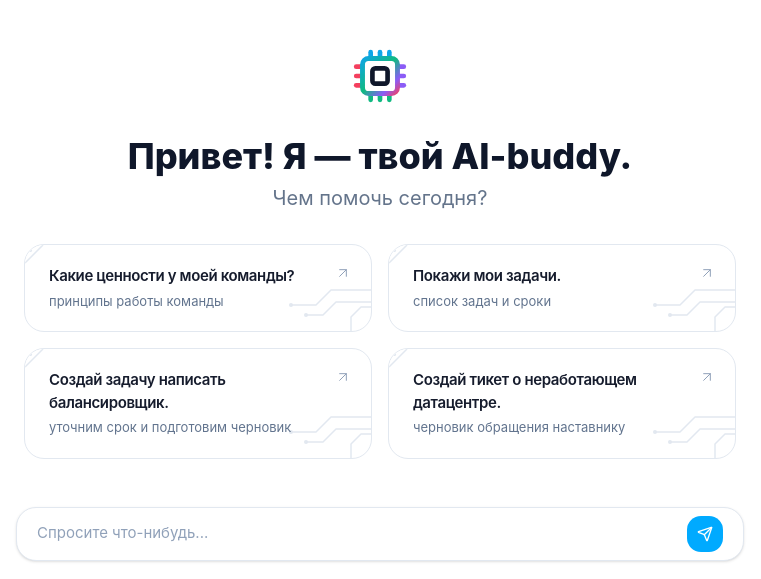
Scenario: sends the exact quick request: Какие ценности у моей команды?
The image size is (761, 579).
Later steps or results of the test are not shown.
Click the button "Какие ценности у моей команды? принципы работы команды". click: (198, 288)
box: x1=24 y1=244 x2=372 y2=332
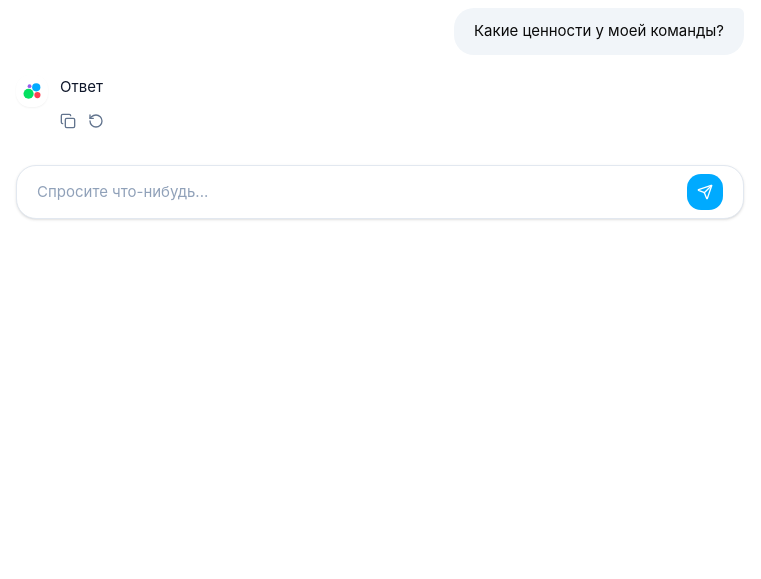
Now the text "Ответ" is shown, box x1=60 y1=76 x2=103 y2=96
